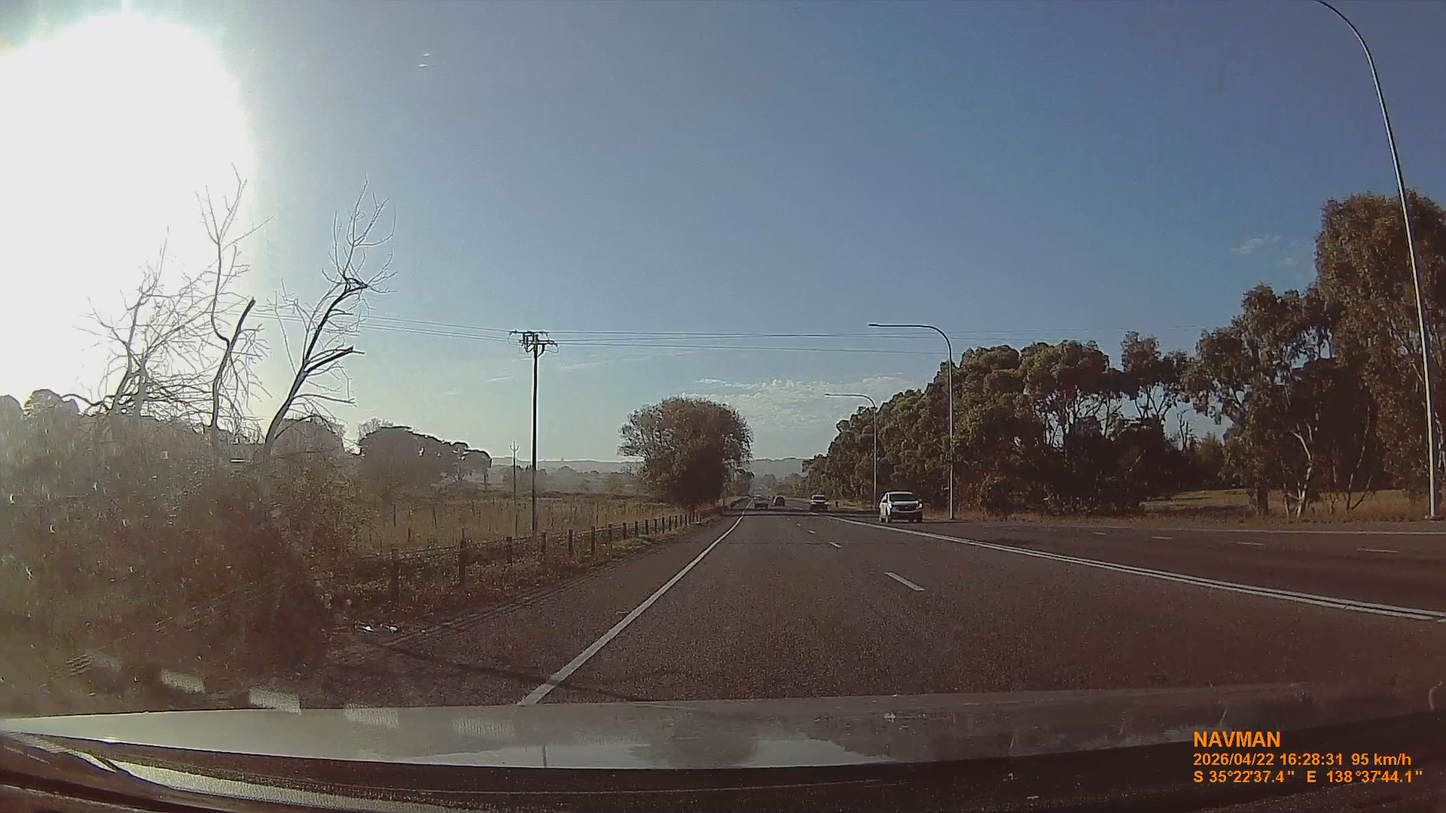fences: (378, 511, 713, 564)
